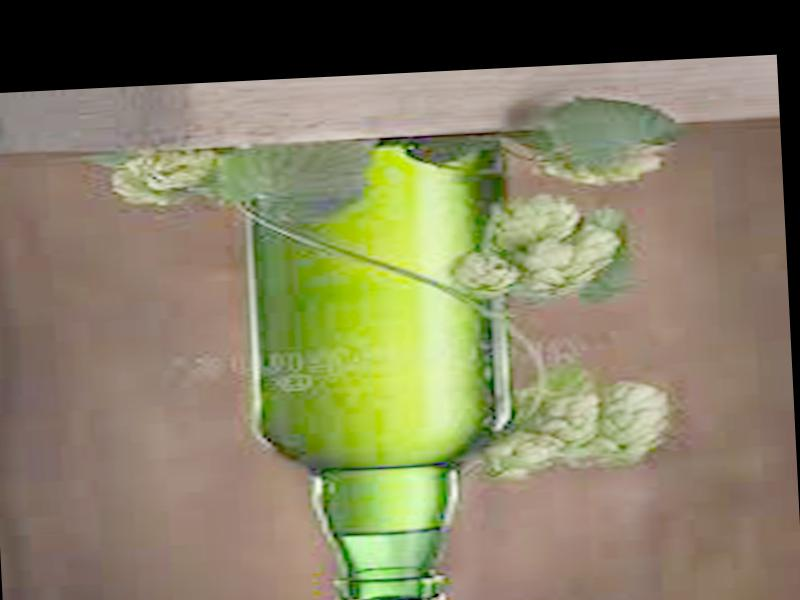Beer: (237, 125, 514, 600)
